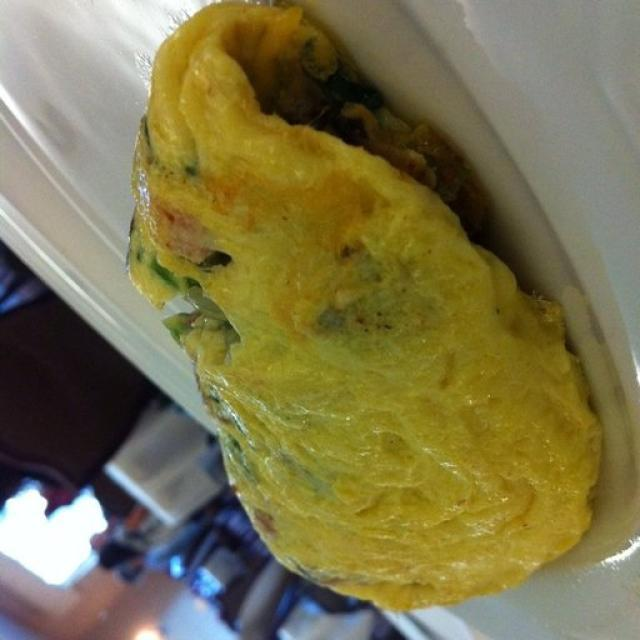telur_ayam_dadar: (123, 2, 602, 614)
